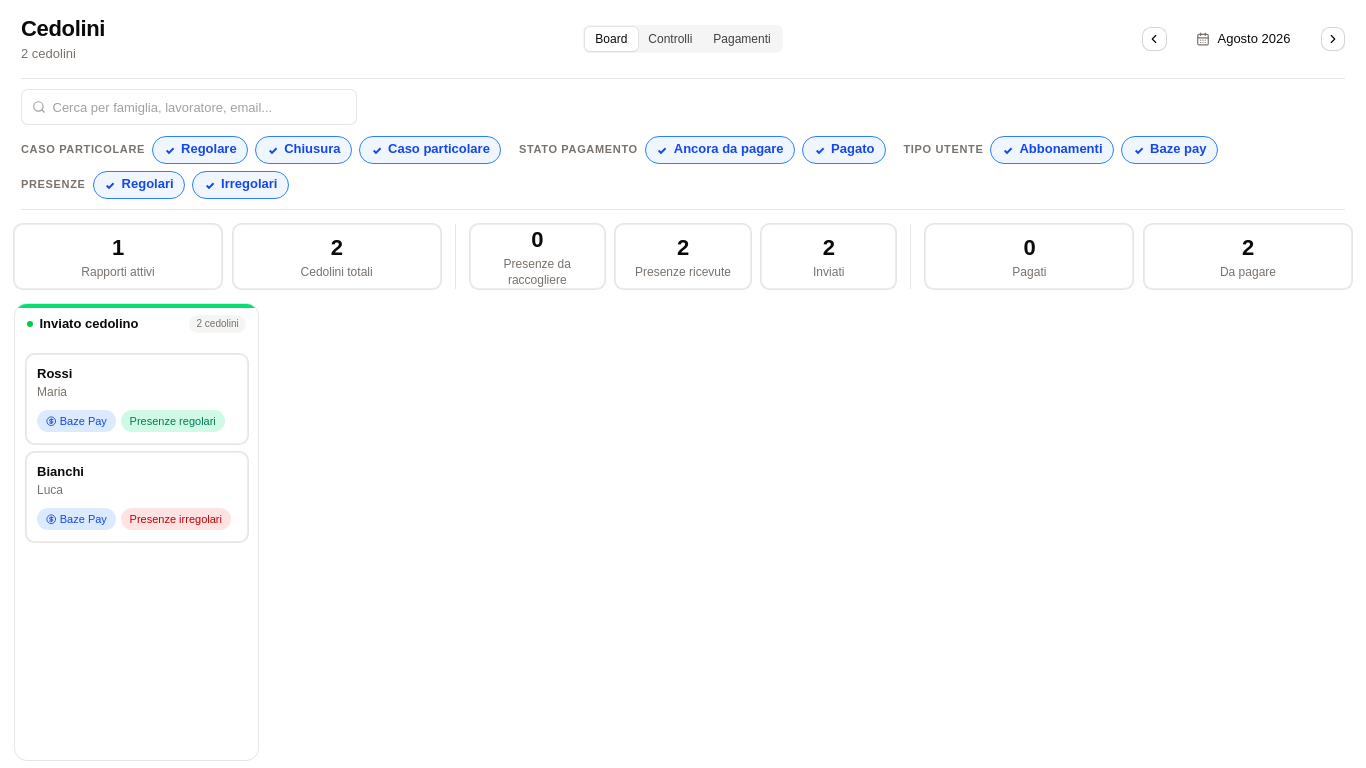
CedoliniPayrollView — filtri toolbar (BAZ-36) › default tutti flagged → tutte le card; deselezionando 'Irregolari' nasconde le card irregolari
Check: the text "Rossi" is shown, box [37,366,72,382]
Check: the text "Bianchi" is shown, box [37,464,84,480]
Note: deseleziona "Irregolari"
Step 1. Click the checkbox labelled "Irregolari" → (241, 185), box [192,171,289,199]
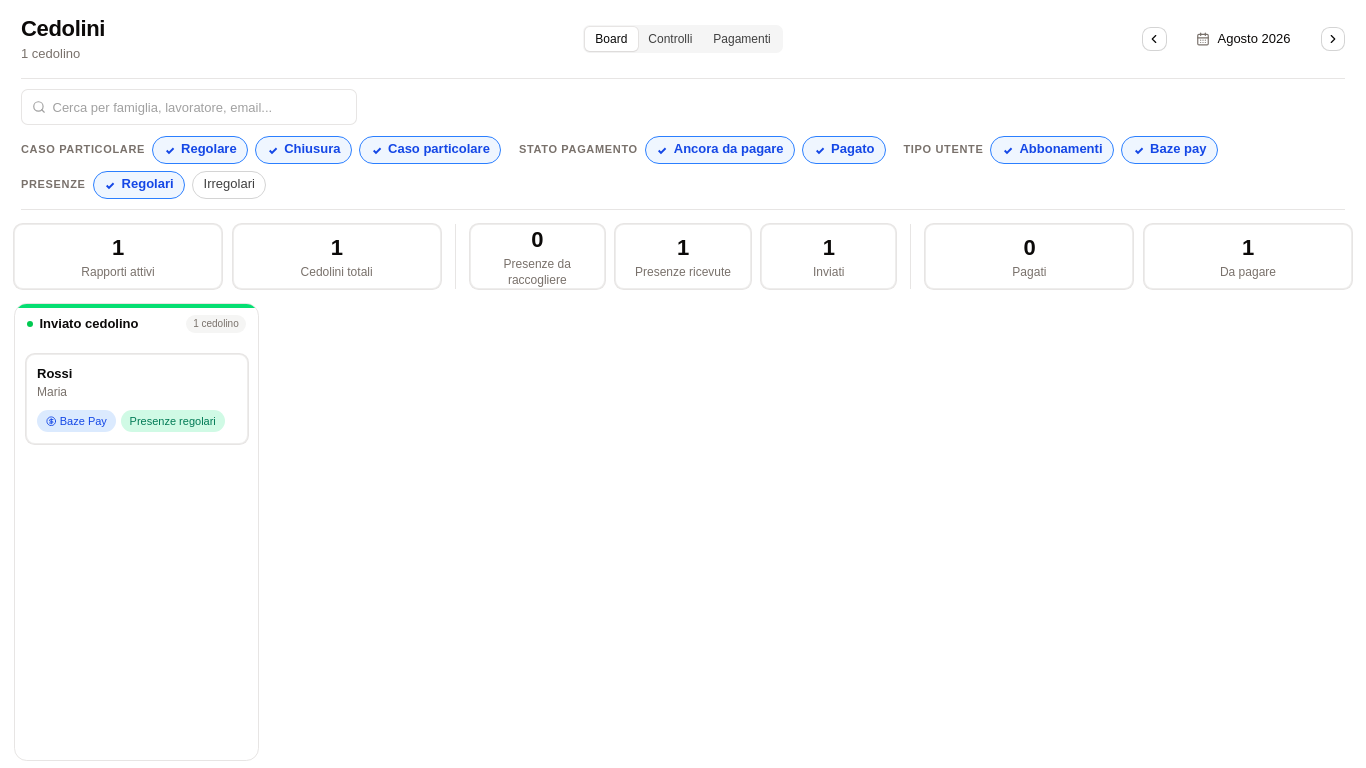
Check: the text "Rossi" is shown, box [37,366,72,382]
Check: the text "Bianchi" is gone
